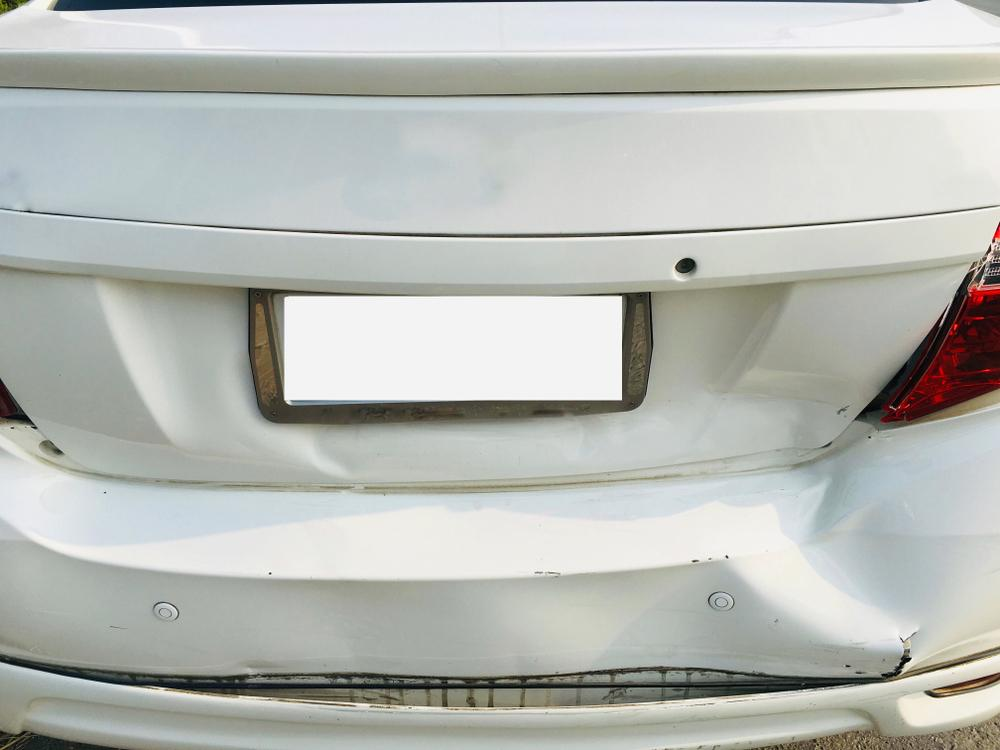dent: (732, 461, 951, 645), (721, 367, 849, 447)
